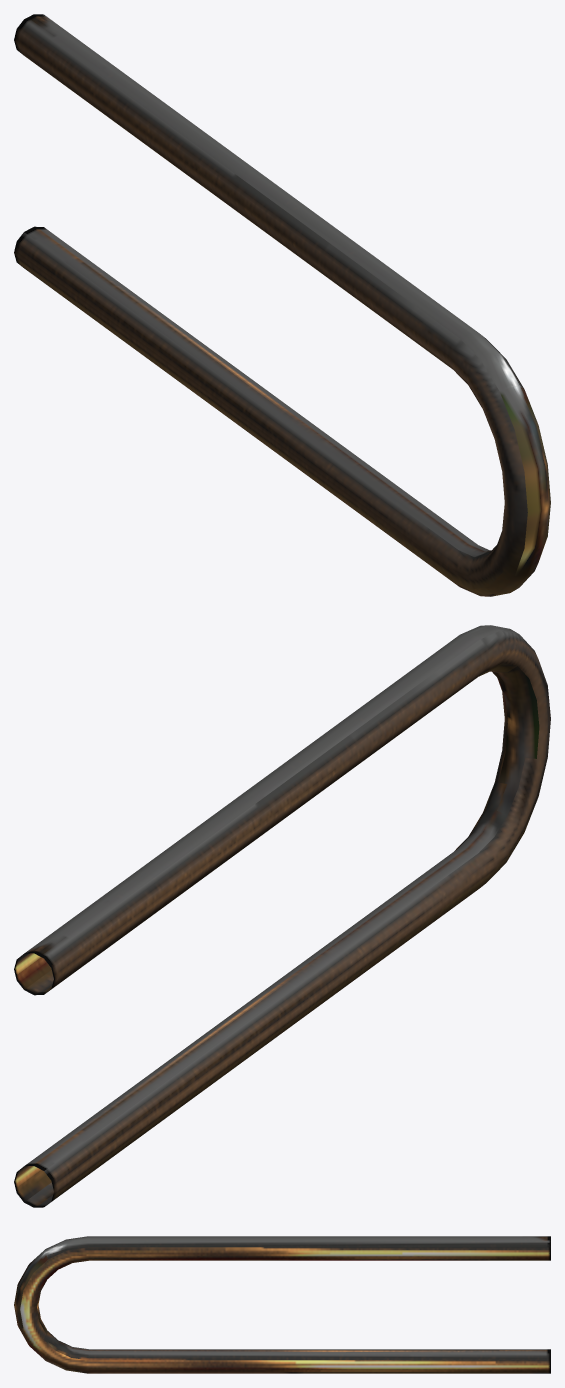
File: gates001.fbx
3 renders of one model, top to bottom at view 1: azimuth 30°, elevation 25°; view 2: azimuth 150°, elevation 25°; view 3: azimuth 270°, elevation 25°, orthographic. The views are drawn at different scales.
Visible parts, largest first — view 1: gates001; view 2: gates001; view 3: gates001.
Boxes of the visible parts, x1,y1,x2,y2 form: gates001: (14,14,550,596); gates001: (14,625,550,1207); gates001: (14,1236,550,1373).
Bounding box in the file's own units: 0.199 × 1.21 × 4.35.
1 material, 1 textured.
